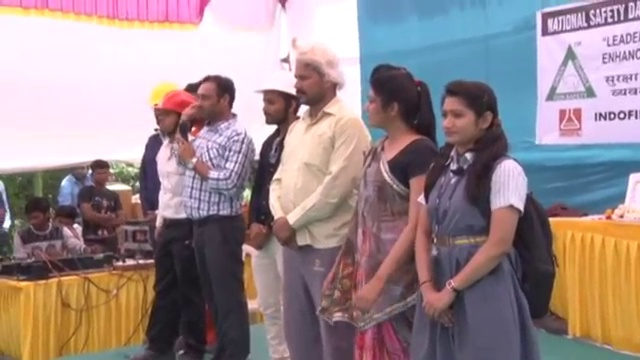helmet: (251, 56, 300, 99), (154, 89, 198, 117)
helmet_off: (436, 77, 505, 156), (364, 61, 427, 136), (286, 49, 346, 112), (183, 76, 237, 121), (19, 198, 50, 230), (89, 160, 111, 191), (52, 207, 79, 231), (70, 166, 88, 186)
helmet_on: (253, 59, 300, 125), (155, 90, 196, 142)
person: (408, 60, 558, 360), (267, 43, 370, 360), (345, 58, 436, 360), (175, 75, 257, 360), (127, 88, 198, 360), (244, 53, 303, 357), (78, 159, 128, 255), (13, 200, 89, 261), (57, 163, 91, 212)
